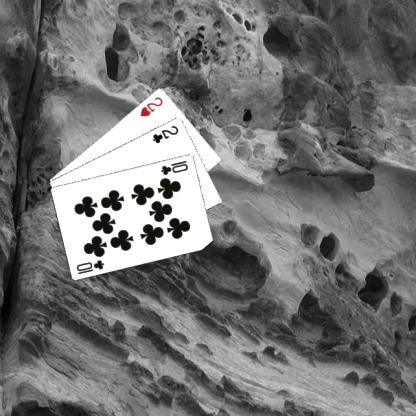10C: (74, 256, 106, 275), (158, 158, 189, 176)
2C: (150, 122, 180, 145)
2H: (138, 93, 164, 118)
